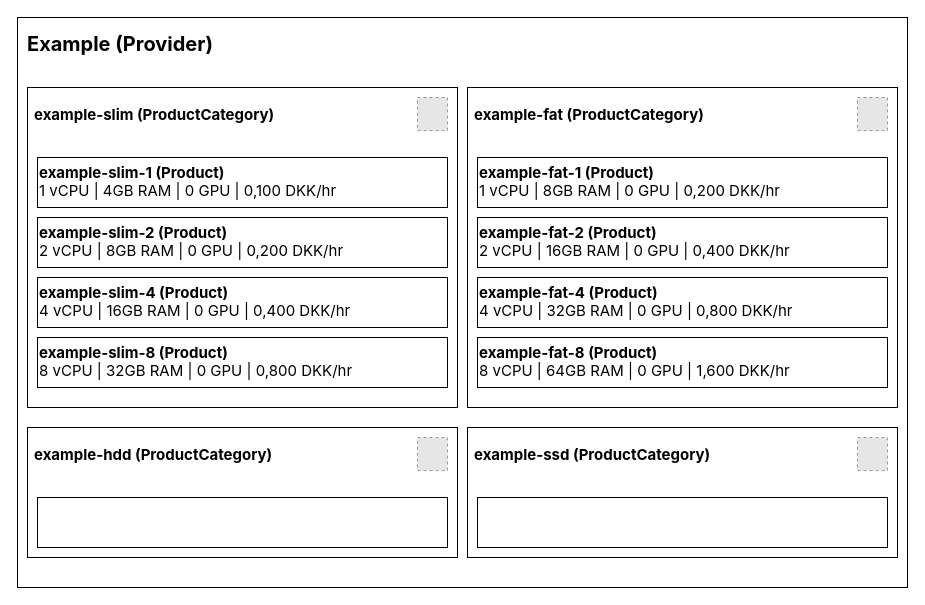
Image size: 925x605. Some labels were removed from this diagram. Grey dashed boxes stand in for pictures. The centre of each missing label's shape, as x and y in pixels:
"example-hdd (Product) Long-term storage | 0,100 DKK/GB per day" goes at point 242,522.
"example-ssd (Product) Fast, short-term storage | 0,200 DKK/hr" goes at point 682,522.
